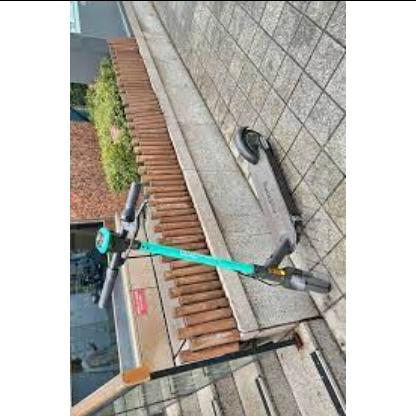bike: (93, 182, 332, 310)
